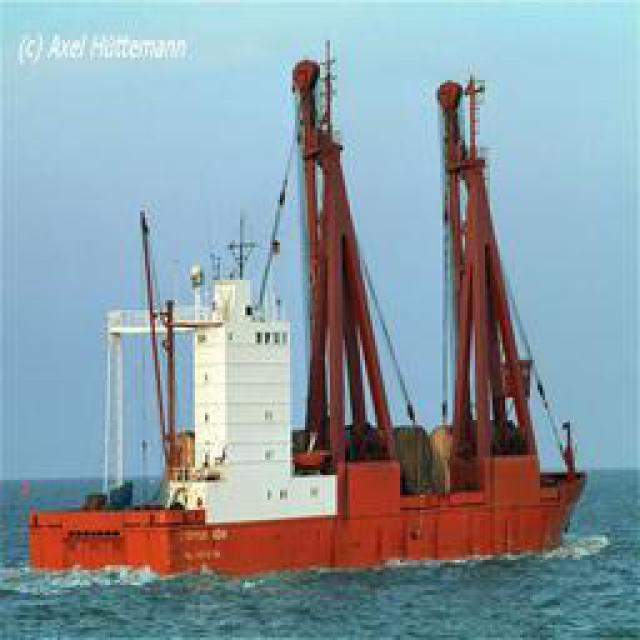Ship: (15, 46, 588, 579)
